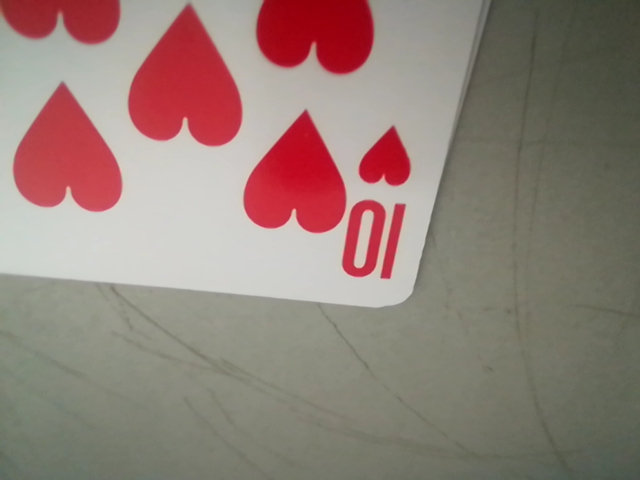hx 10: (338, 125, 419, 288)
